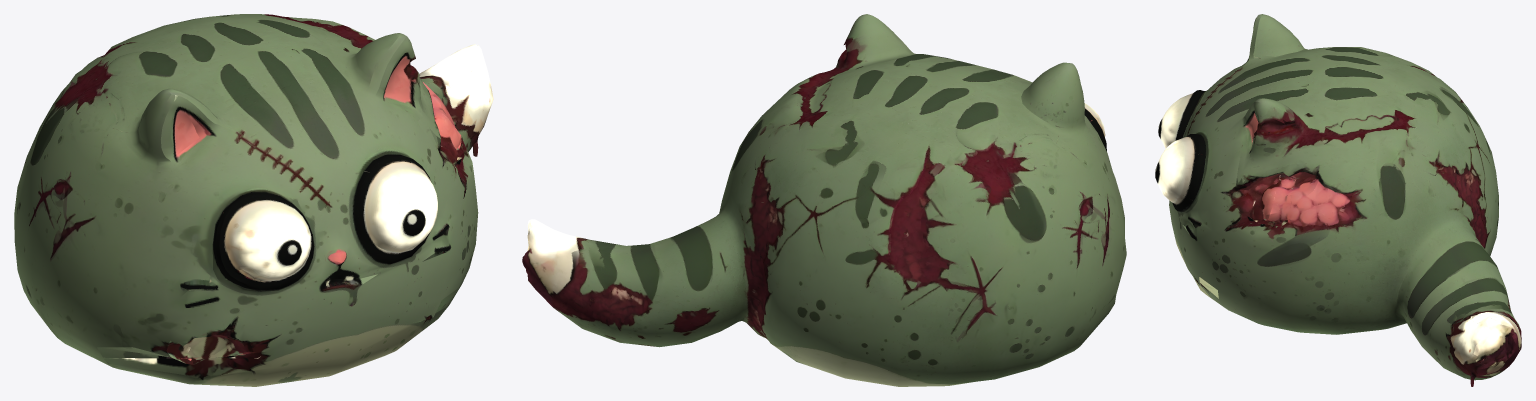
The model's file is zombiecat.glb.
3 views of the same model, side by side, from view 1: azimuth 30°, elevation 25°; view 2: azimuth 150°, elevation 25°; view 3: azimuth 270°, elevation 25° (orthographic). The views are drawn at different scales.
Visible parts, largest first — view 1: Mesh0; view 2: Mesh0; view 3: Mesh0.
Boxes of the visible parts, x1,y1,x2,y2 form: Mesh0: [14, 14, 493, 386]; Mesh0: [522, 14, 1126, 386]; Mesh0: [1155, 14, 1521, 386].
Size of the model in its own units: 1.9 by 0.9941 by 1.46.
Materials: 1 (1 with a texture image).
